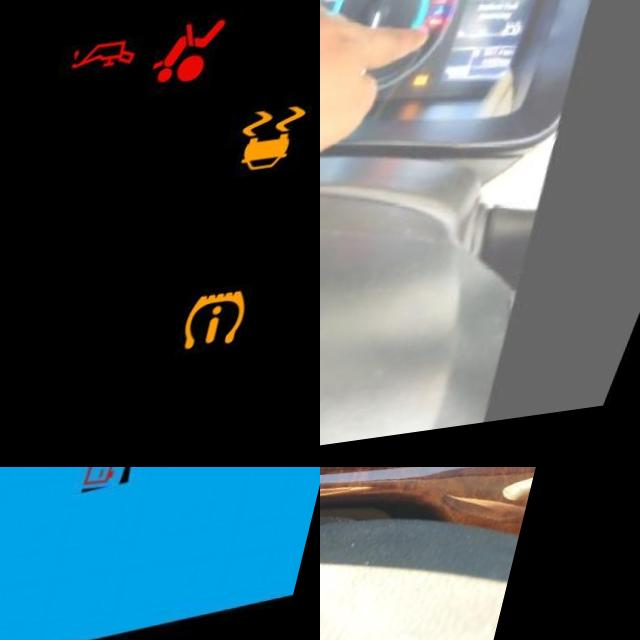Engine cooling system: (445, 5, 462, 22)
